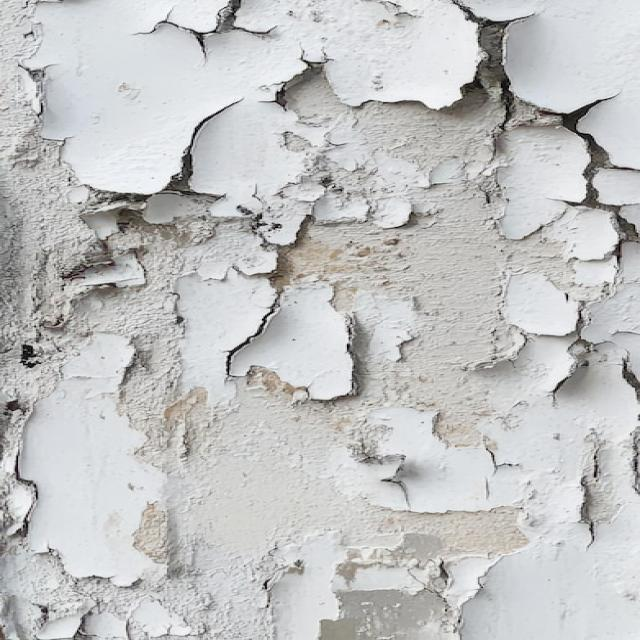Paint peeling: (14, 12, 639, 620)
